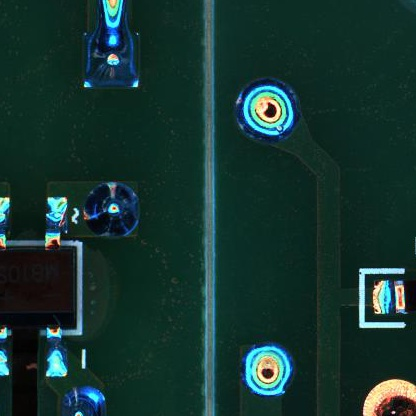spot: (232, 77, 302, 147), (79, 31, 139, 92), (86, 182, 139, 240), (239, 343, 294, 397)
